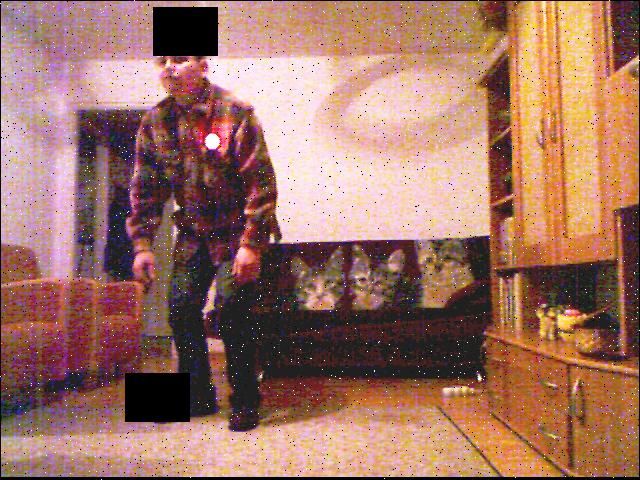bending: (116, 14, 304, 440)
